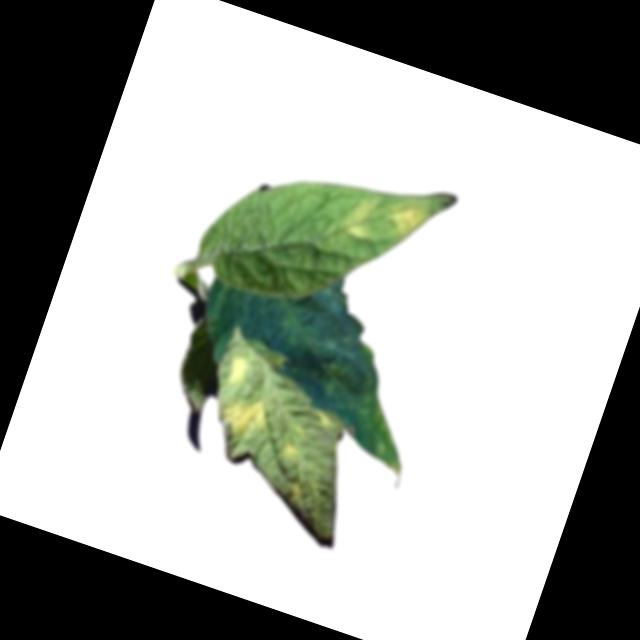Leaf_Mold: (336, 386, 419, 475), (209, 388, 273, 448), (378, 188, 437, 248), (335, 190, 381, 246), (221, 347, 255, 389), (272, 436, 306, 468)
